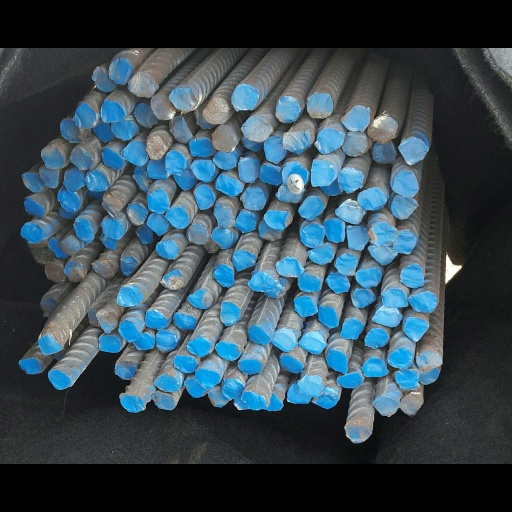dipstick: (397, 137, 425, 166), (369, 116, 397, 143), (167, 87, 197, 112), (392, 171, 419, 198), (358, 186, 386, 212), (240, 116, 269, 141), (231, 85, 258, 111), (336, 200, 365, 224), (150, 93, 175, 120), (262, 134, 285, 163), (108, 59, 133, 85), (166, 116, 192, 141), (216, 171, 241, 197), (282, 162, 308, 187), (306, 93, 332, 118), (326, 347, 349, 375), (310, 158, 332, 187), (314, 128, 343, 150), (237, 155, 258, 185), (406, 291, 436, 312), (211, 126, 236, 151), (74, 103, 99, 128), (300, 221, 325, 246), (344, 131, 369, 156), (371, 221, 397, 245), (276, 96, 300, 122), (404, 315, 428, 341), (213, 200, 236, 227), (368, 242, 395, 265), (281, 132, 309, 154), (127, 74, 156, 95), (240, 187, 265, 211), (343, 106, 368, 130), (100, 189, 123, 215), (345, 224, 367, 251), (372, 139, 396, 163), (90, 66, 114, 90), (62, 166, 86, 190), (117, 283, 141, 307), (391, 194, 416, 217), (99, 98, 124, 121), (118, 317, 141, 342), (400, 264, 425, 287), (190, 105, 212, 131), (121, 143, 147, 165), (192, 184, 214, 210), (56, 189, 83, 210), (85, 168, 108, 192), (153, 329, 176, 353), (326, 271, 350, 294), (339, 168, 362, 192), (165, 149, 187, 174), (190, 157, 215, 179), (21, 196, 46, 218), (374, 395, 399, 417), (144, 158, 170, 179), (37, 334, 63, 355), (276, 257, 302, 278), (361, 357, 387, 378), (387, 347, 413, 368), (60, 119, 83, 142), (259, 163, 282, 186), (146, 210, 169, 233), (146, 189, 168, 213), (100, 217, 124, 239), (293, 295, 317, 317), (298, 197, 322, 219), (307, 244, 332, 265), (277, 183, 302, 204), (393, 369, 418, 390), (147, 133, 167, 159), (372, 306, 398, 326), (382, 288, 408, 308), (134, 103, 156, 126), (233, 210, 255, 233), (166, 206, 189, 228), (43, 261, 66, 283), (241, 390, 264, 412), (300, 374, 322, 397), (248, 323, 271, 345), (273, 327, 295, 350), (398, 392, 420, 415), (39, 164, 60, 188), (73, 218, 94, 242), (27, 243, 55, 261), (395, 230, 416, 254), (69, 148, 94, 168), (130, 166, 150, 191), (160, 270, 185, 290), (187, 290, 212, 310), (109, 120, 135, 139), (344, 423, 370, 442), (118, 394, 145, 412), (212, 265, 234, 287), (316, 306, 338, 328), (41, 146, 64, 167), (100, 148, 123, 169), (186, 223, 207, 246), (220, 302, 241, 325), (296, 271, 319, 292), (340, 318, 363, 339), (206, 99, 226, 123), (214, 341, 238, 361), (248, 273, 272, 293), (154, 240, 179, 259), (195, 369, 220, 388), (186, 338, 211, 357), (327, 218, 345, 244), (416, 351, 442, 369), (47, 369, 69, 390), (174, 353, 195, 375), (184, 377, 205, 399), (206, 385, 228, 406), (302, 333, 324, 354), (240, 134, 263, 154), (212, 226, 232, 249), (144, 309, 167, 329), (319, 176, 342, 196), (20, 223, 44, 242), (91, 260, 115, 279), (264, 211, 289, 229), (188, 138, 214, 155), (115, 359, 136, 380), (152, 390, 173, 411), (279, 353, 300, 374), (93, 121, 113, 143), (21, 172, 43, 192), (232, 249, 254, 269), (259, 221, 281, 241), (261, 163, 281, 185), (212, 150, 235, 169), (312, 389, 335, 408), (336, 252, 355, 275), (355, 268, 379, 286), (417, 366, 441, 384), (171, 313, 196, 330), (336, 372, 361, 389), (64, 261, 85, 281), (96, 311, 116, 332), (173, 170, 195, 189), (47, 237, 66, 258), (117, 255, 138, 274), (154, 373, 175, 392), (367, 329, 388, 348), (352, 288, 374, 306), (126, 203, 146, 222), (60, 236, 80, 255), (39, 296, 59, 315), (221, 379, 243, 396), (17, 358, 40, 374), (237, 359, 260, 375), (135, 223, 153, 243), (290, 385, 308, 405), (133, 333, 154, 350), (265, 392, 282, 413), (56, 205, 78, 221), (98, 335, 120, 351), (99, 232, 118, 250), (86, 308, 100, 330), (199, 236, 217, 253), (267, 282, 285, 298), (235, 395, 249, 410)
